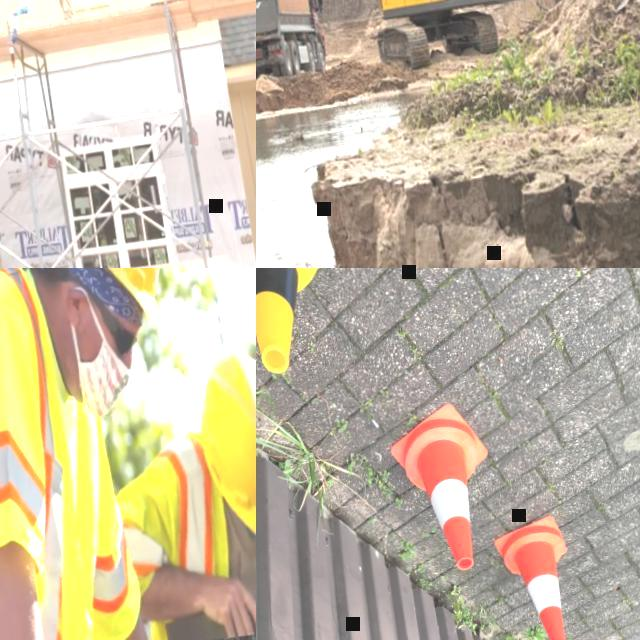helmet: (188, 346, 256, 546), (39, 268, 175, 341)
machinery: (256, 0, 534, 96), (256, 0, 334, 89)
mask: (62, 281, 138, 425)
person: (0, 268, 224, 640), (97, 329, 256, 640)
safety_cone: (383, 399, 512, 586), (491, 510, 585, 640), (256, 268, 361, 384)
vest: (0, 268, 148, 640), (111, 408, 256, 613)
